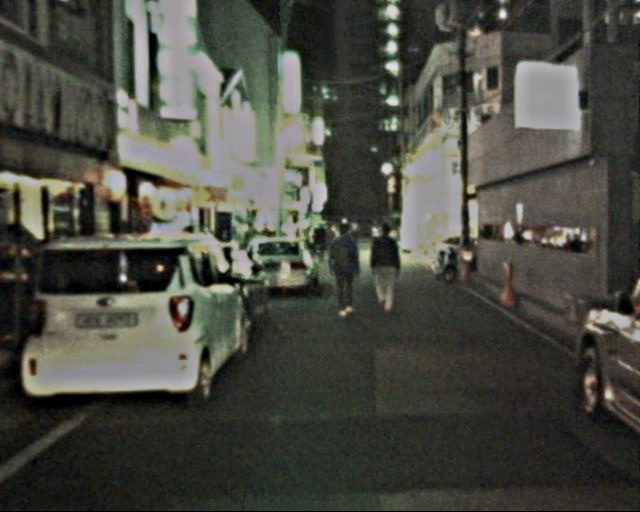person: (325, 222, 366, 318), (369, 224, 406, 310)
